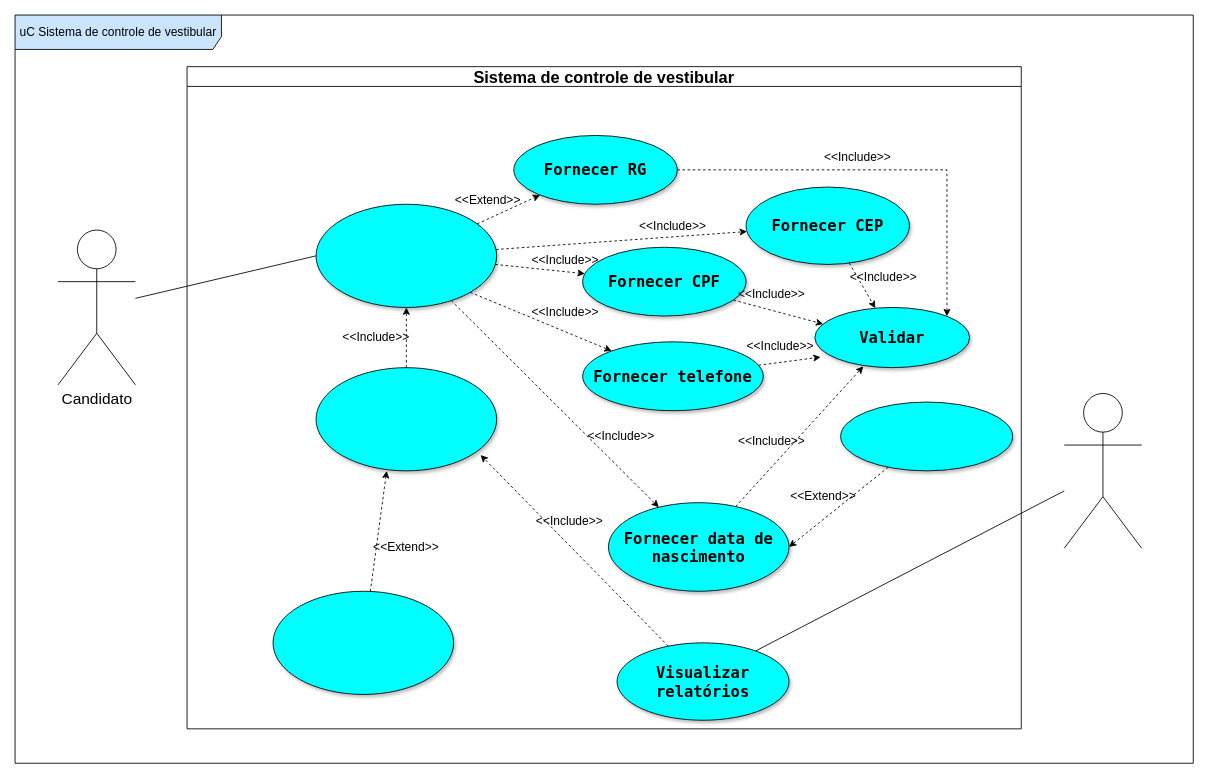
Some shapes in this 1208 by 778 pixel diagram are drawn without their labels. The shapes that lost their labels are listed below. From the top down, each one's centre as x and y in pixels, then its label:
At [407,256]: "Preencher dados pessoais".
At [407,420]: "Finalizar inscrição".
At [927,437]: "Informar representante legal".
At [1102,470]: "Coordenador".
At [364,643]: "Imprimir comprovante de inscrição".
